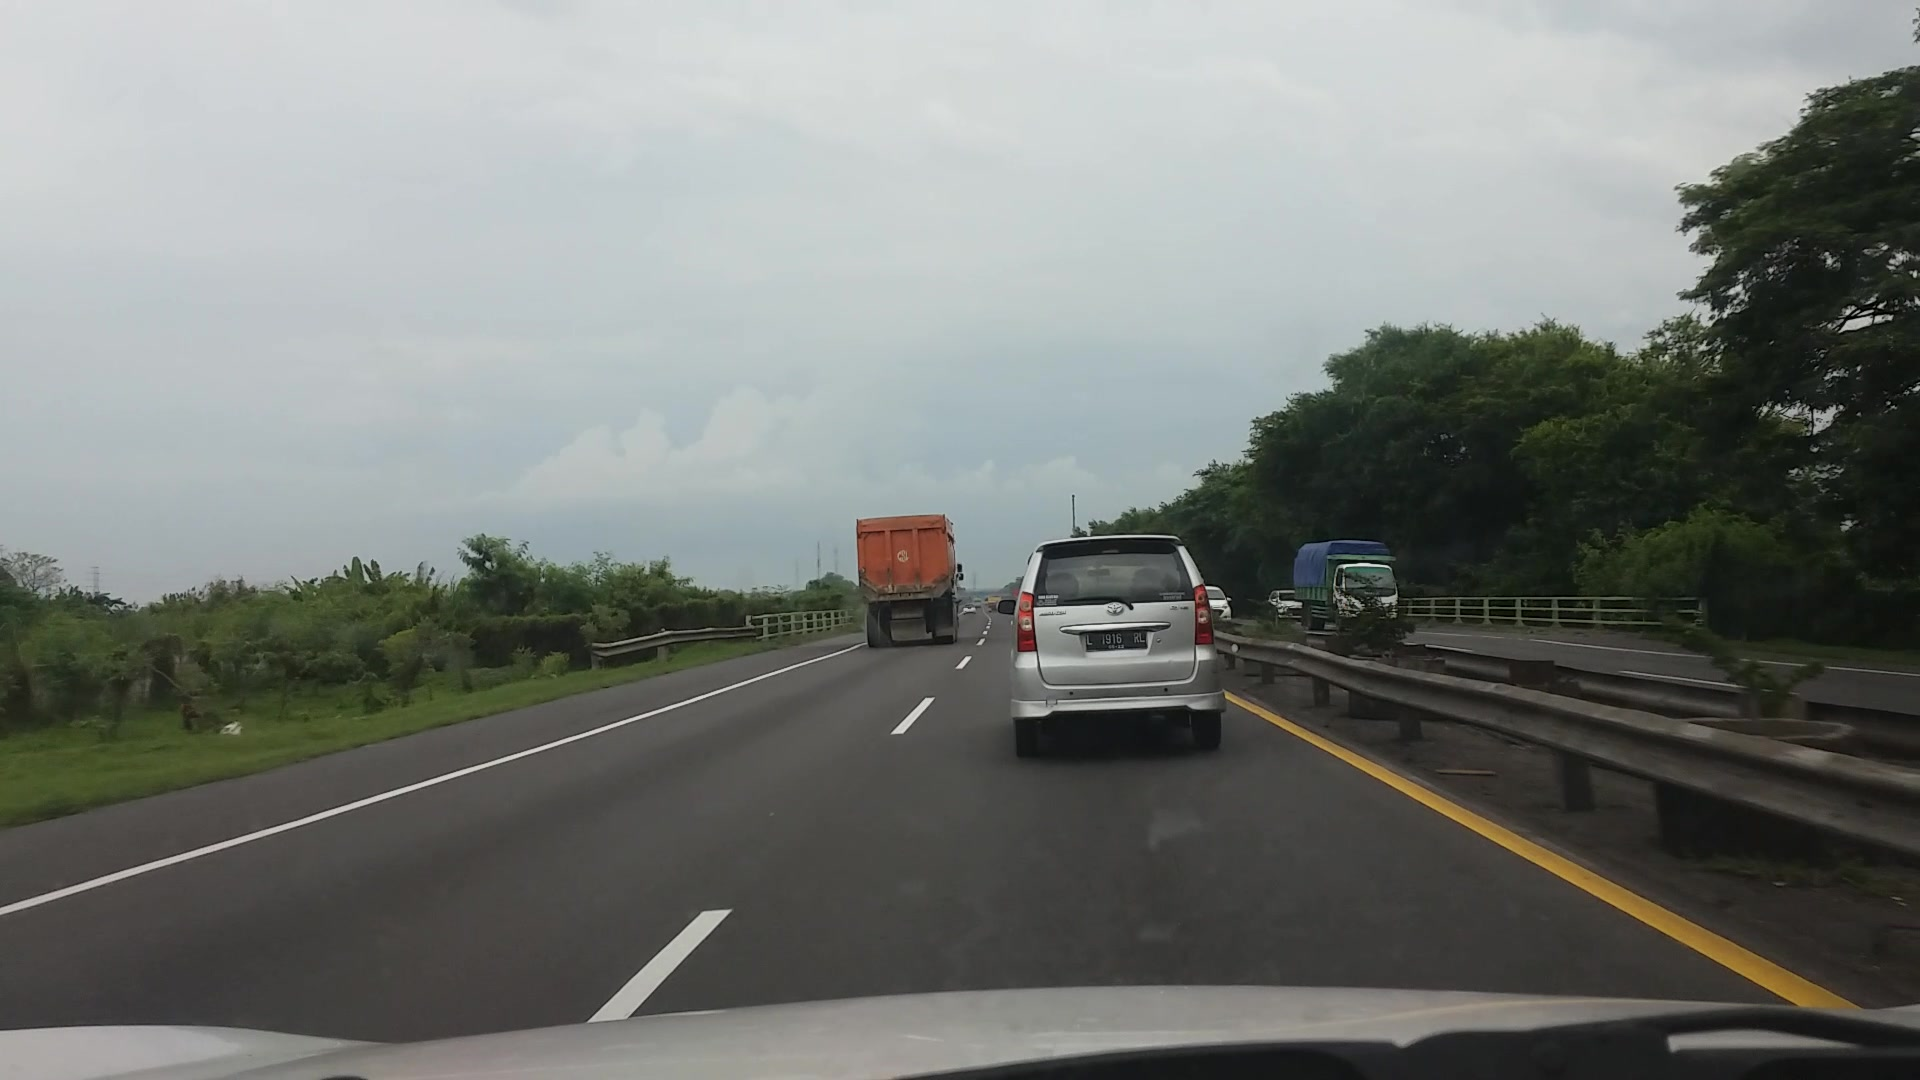plate_positive: (1087, 630, 1149, 651)
